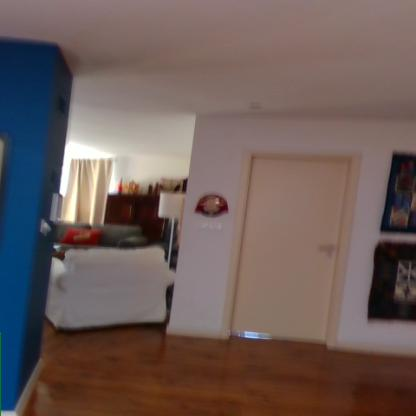closed: (234, 146, 362, 352)
